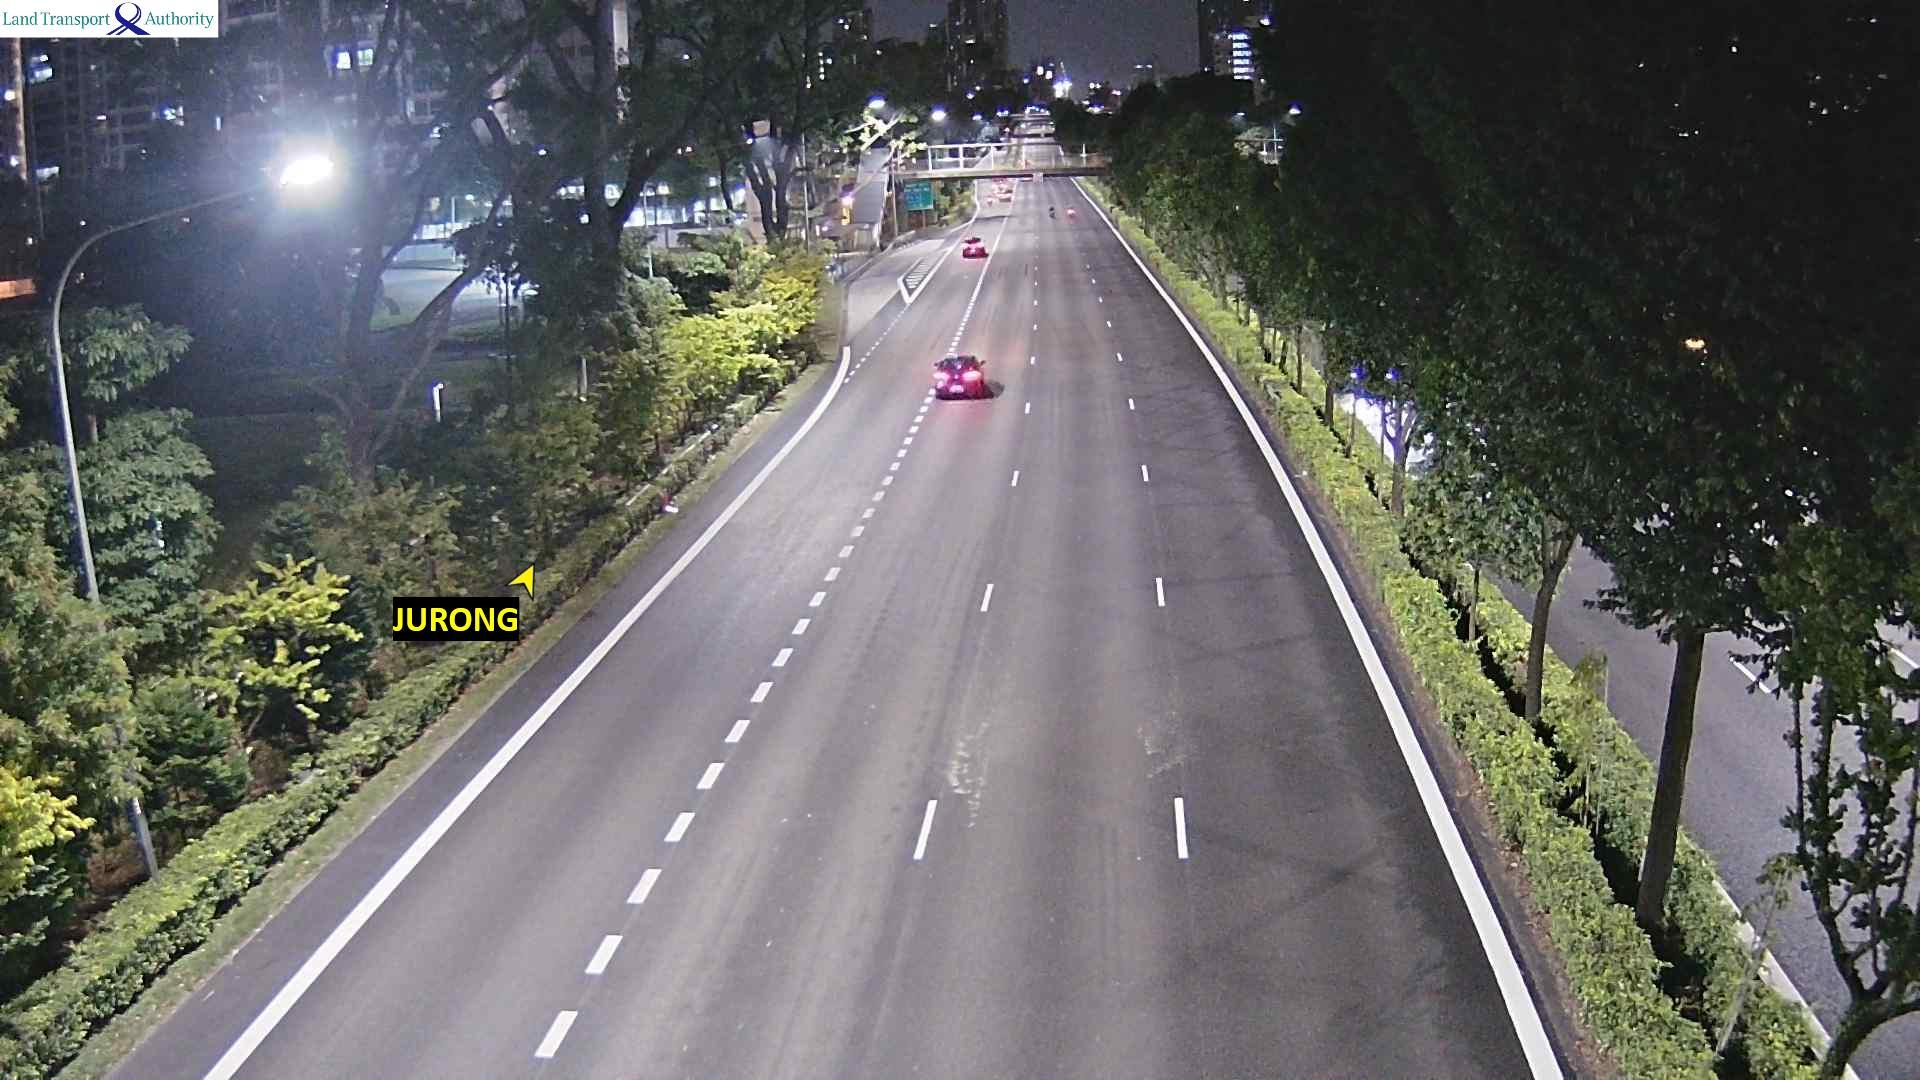cars: (930, 353, 986, 399), (960, 235, 986, 258), (1064, 205, 1076, 218)
motorcycle: (1048, 203, 1056, 217), (986, 194, 994, 208)
trucks: (996, 185, 1017, 206)
